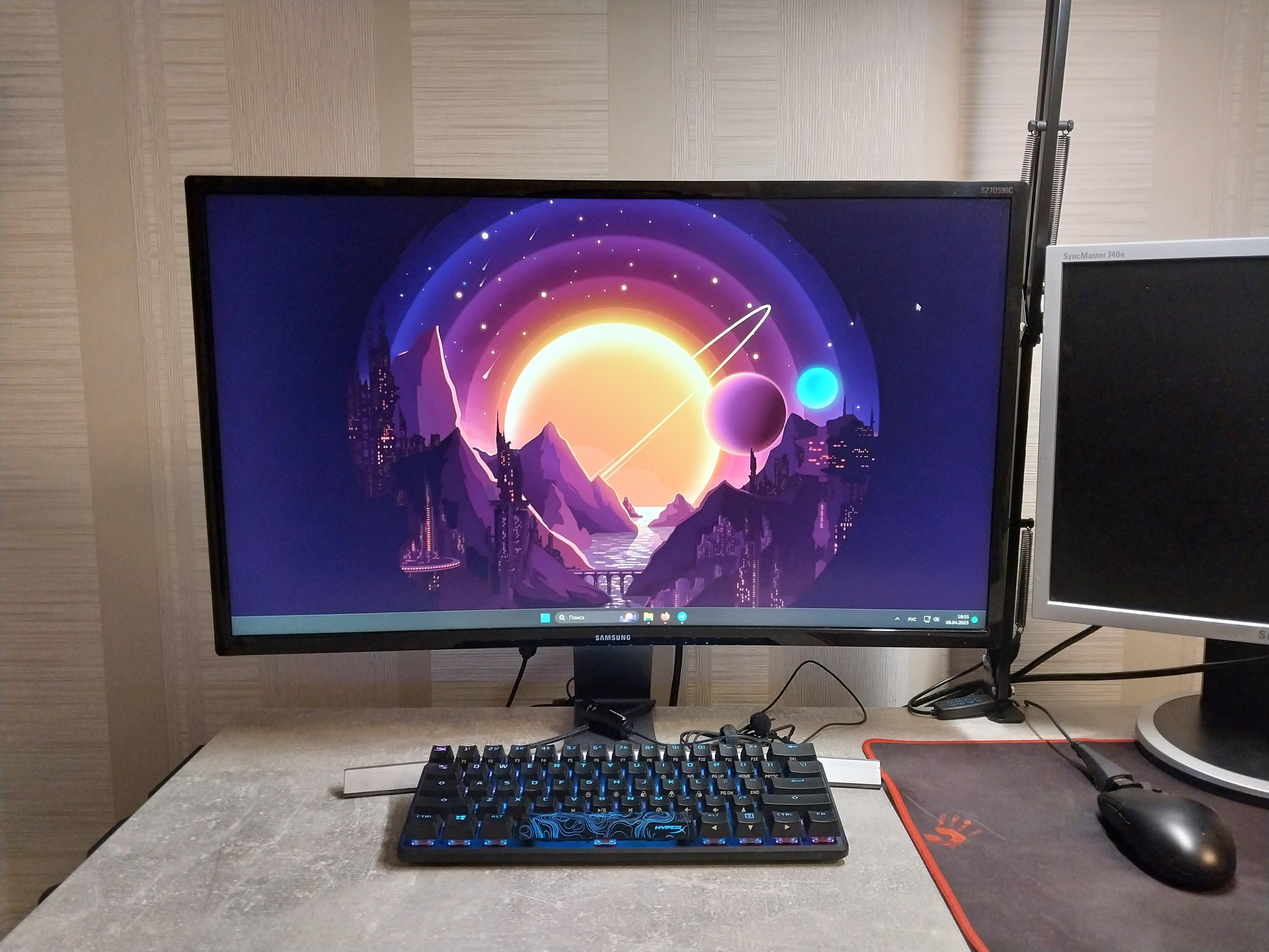monitor: (177, 168, 1033, 661), (1030, 233, 1269, 650)
